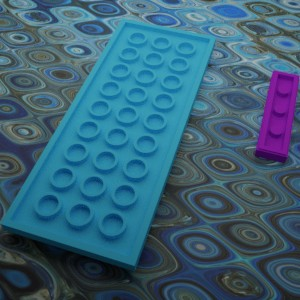lego: (0, 18, 216, 271), (254, 70, 300, 163)
